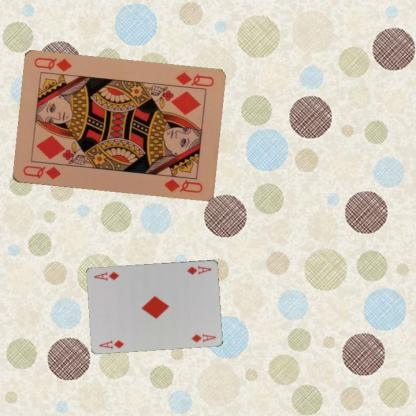Ad: (96, 338, 126, 350), (184, 263, 213, 275)
Qd: (169, 70, 215, 91), (20, 163, 62, 181)
